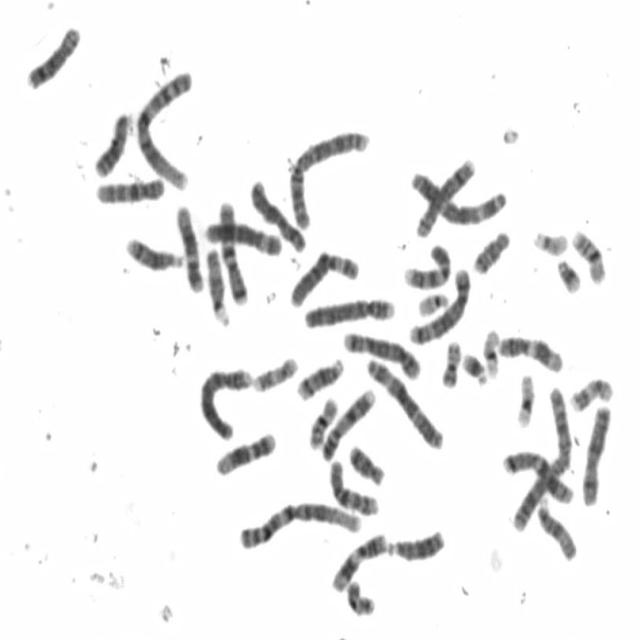A1: (131, 66, 195, 192), (235, 496, 363, 553)
A2: (508, 384, 572, 534), (285, 126, 372, 231)
A3: (364, 355, 446, 450), (407, 167, 509, 228)
B4: (196, 362, 254, 442), (301, 294, 396, 330)
B5: (406, 264, 472, 347), (341, 328, 422, 381)
C10: (327, 457, 380, 517), (92, 172, 165, 206)
C11: (328, 528, 388, 595), (495, 332, 564, 374)
C12: (212, 426, 278, 479), (173, 201, 204, 295)
C6: (287, 246, 360, 308), (202, 218, 284, 258)
C7: (499, 446, 574, 506), (216, 196, 250, 306)
C8: (412, 155, 478, 239), (23, 23, 82, 92)
C9: (319, 384, 376, 462), (401, 240, 452, 291)
D13: (90, 108, 135, 180), (384, 526, 445, 562)
D14: (292, 354, 346, 403), (122, 234, 185, 272)
D15: (535, 496, 578, 562), (203, 245, 231, 329)
E16: (568, 225, 606, 288), (306, 393, 340, 451)
E17: (250, 354, 300, 394), (567, 373, 614, 414)
E18: (469, 227, 511, 276), (347, 442, 386, 486)
F19: (514, 369, 536, 429), (481, 326, 501, 379)
F20: (344, 576, 377, 617), (438, 338, 462, 390)
G21: (554, 255, 583, 296), (460, 349, 489, 387)
G22: (529, 225, 569, 258), (414, 289, 450, 318)
X: (247, 176, 308, 254), (578, 403, 612, 508)
